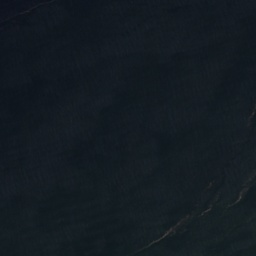Marine Debris: (127, 193, 220, 256)
